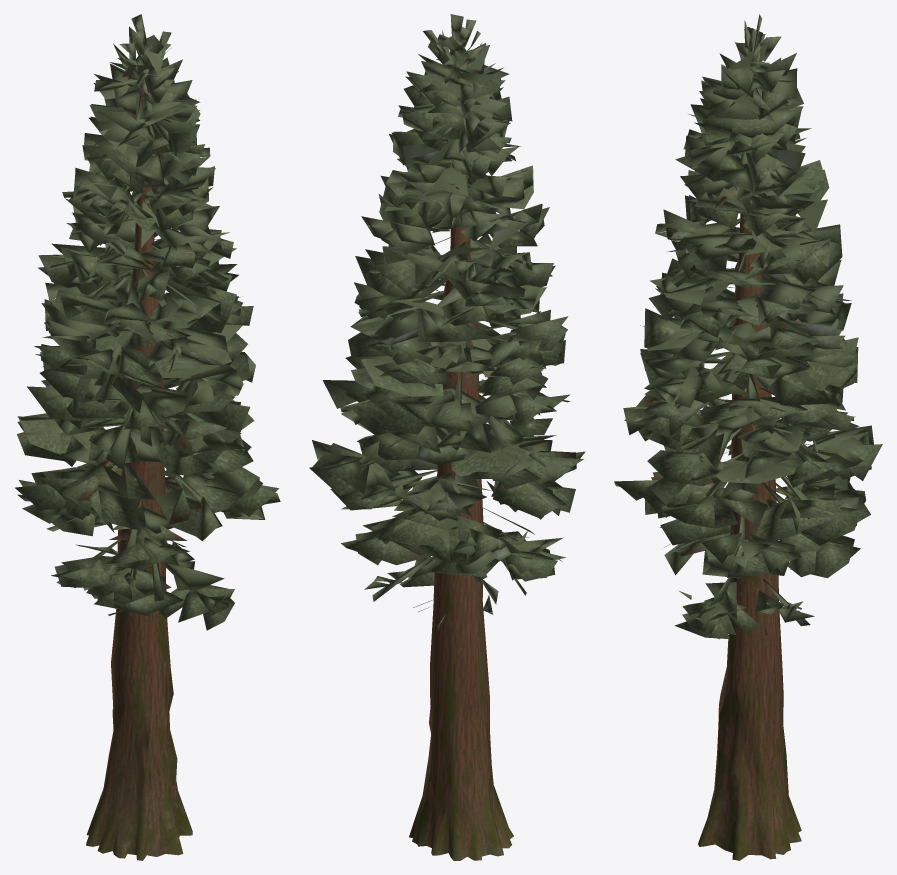
File: Meshy_AI_redwood_tree_1025061650_texture.glb
3 views of the same model, side by side, from view 1: azimuth 30°, elevation 25°; view 2: azimuth 150°, elevation 25°; view 3: azimuth 270°, elevation 25° (orthographic).
Bounding box in the file's own units: 0.2852 × 0.9512 × 0.2817.
Materials: 1 (1 with a texture image).
